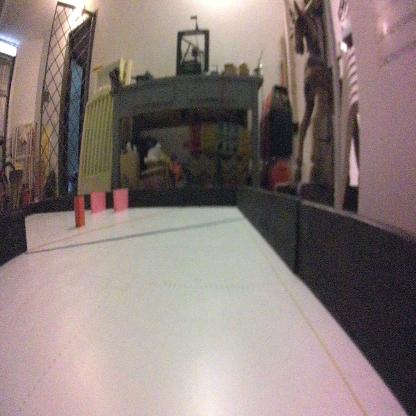magenta: (112, 186, 129, 218), (90, 191, 104, 212)
red: (71, 188, 86, 228)
